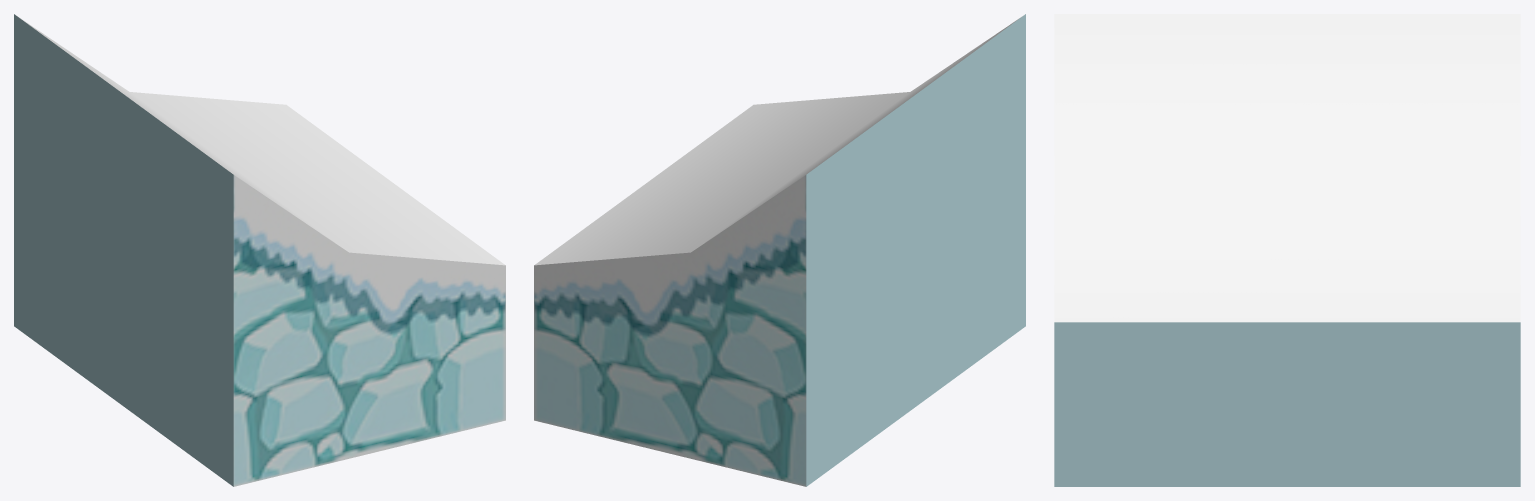
File: Snow_R_5.fbx
The picture shows the model from 3 angles, left to right: view 1: azimuth 30°, elevation 25°; view 2: azimuth 150°, elevation 25°; view 3: azimuth 270°, elevation 25°; orthographic projection. The views are drawn at different scales.
Visible parts, largest first — view 1: Snow_R_5; view 2: Snow_R_5; view 3: Snow_R_5.
Part boxes in pixels (x1,y1,x2,y2): Snow_R_5: (14,14,505,486); Snow_R_5: (534,14,1025,486); Snow_R_5: (1054,14,1520,486).
Size of the model in its own units: 3.05 by 3.34 by 4.26.
Materials: 1 (1 with a texture image).
